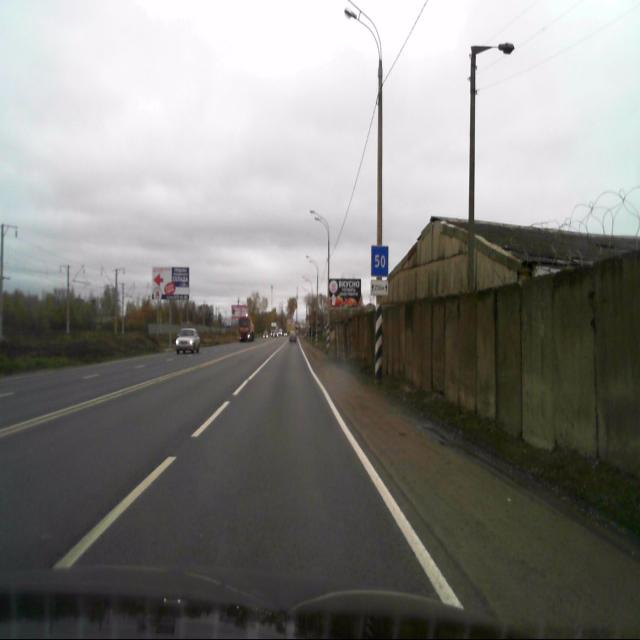road sign: (370, 245, 388, 276), (370, 280, 388, 296)
